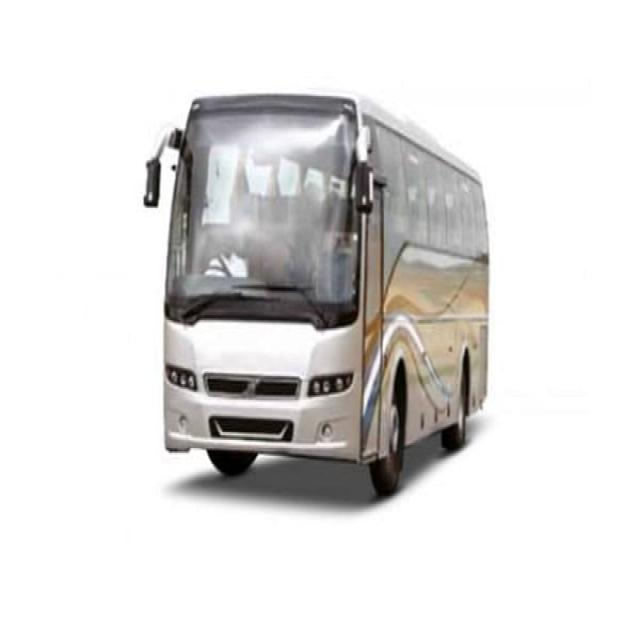bus: (145, 94, 489, 494)
